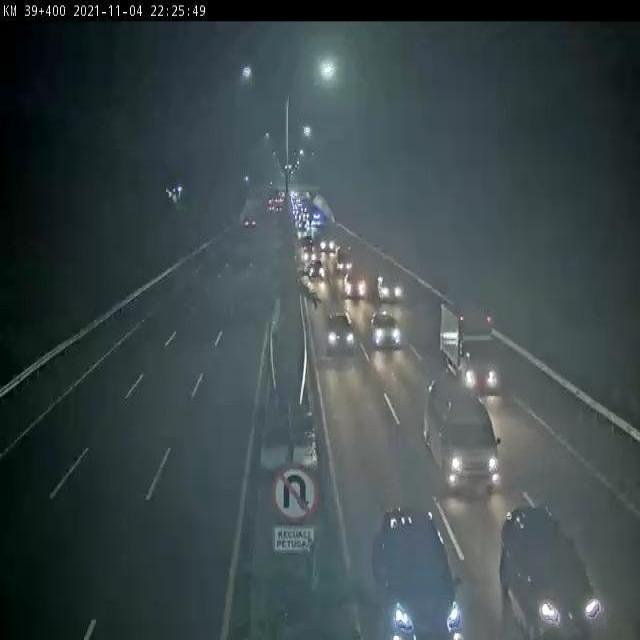car: (493, 508, 609, 640), (365, 504, 464, 640), (422, 382, 500, 502), (322, 305, 360, 363), (368, 308, 404, 353), (372, 272, 408, 303), (342, 272, 368, 308), (308, 260, 328, 285)
truck-s-: (439, 295, 508, 393)
